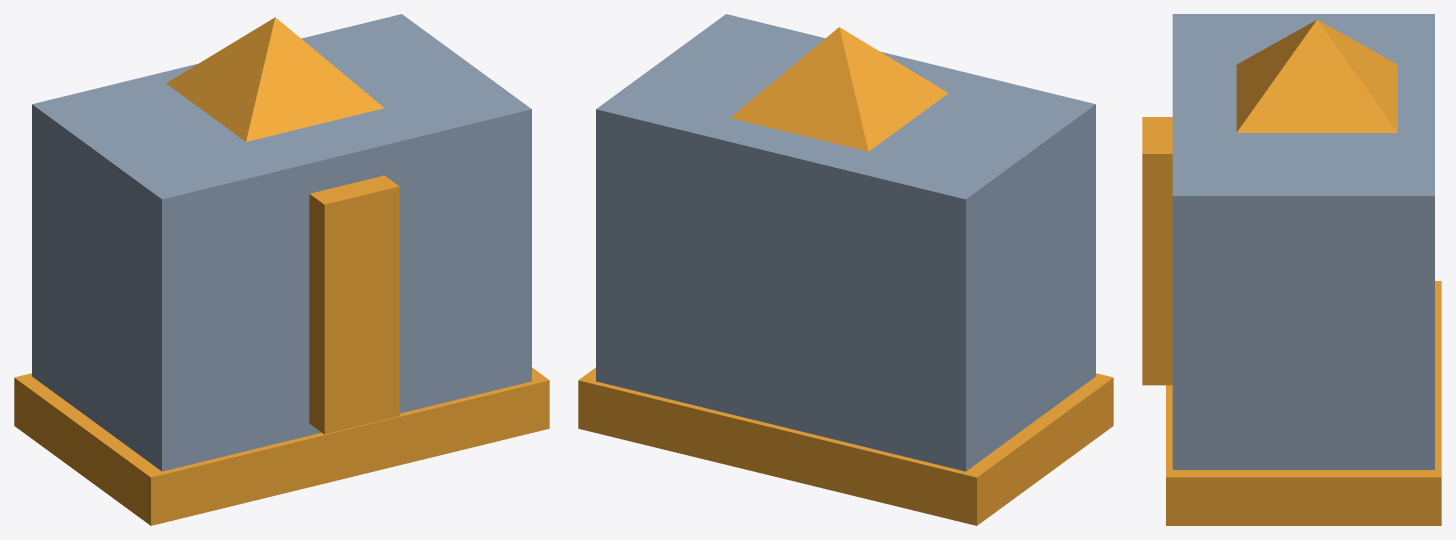
The model's file is chest-3.obj.
3 renders of one model, left to right at view 1: azimuth 30°, elevation 25°; view 2: azimuth 150°, elevation 25°; view 3: azimuth 270°, elevation 25°, orthographic.
Bounding box in the file's own units: 0.69 × 0.67 × 0.445.
